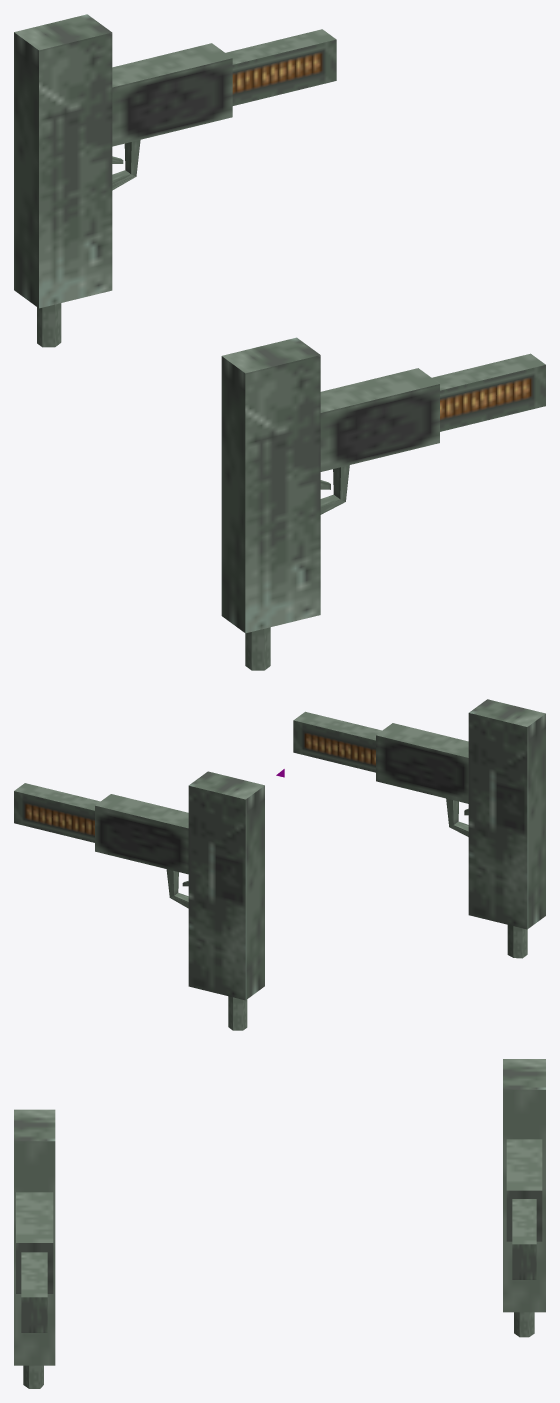
The model's file is uzis.glb.
3 views of the same model, one above another, from view 1: azimuth 30°, elevation 25°; view 2: azimuth 150°, elevation 25°; view 3: azimuth 270°, elevation 25° (orthographic). The views are drawn at different scales.
Parts seen in each view (by area): view 1: M002, M001; view 2: M002, M001; view 3: M001, M002.
Boxes of the visible parts, bbox=[...] form: M002: bbox=[221, 337, 545, 670]; M001: bbox=[14, 14, 336, 347]; M002: bbox=[293, 699, 545, 958]; M001: bbox=[14, 771, 264, 1030]; M001: bbox=[503, 1059, 545, 1337]; M002: bbox=[14, 1109, 55, 1388].
Bounding box in the file's own units: 2.02 × 2.05 × 2.84.
1 material, 1 textured.
